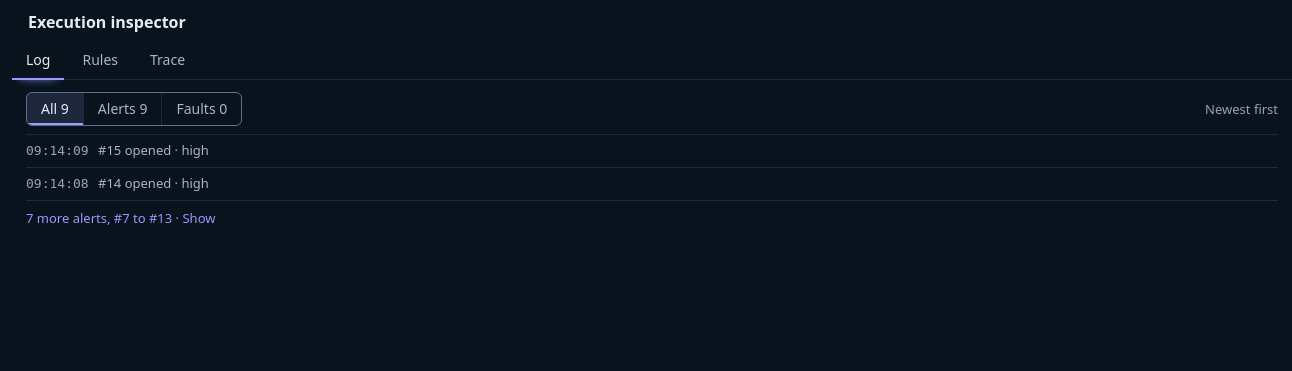
Scenario: Inspector: the log › folds a long run of alerts, and opens it
Expected: the number of list items is 3, left=26, top=134, right=1278, bottom=167; left=26, top=167, right=1278, bottom=200; left=26, top=200, right=1278, bottom=235
Click the button "7 more alerts, #7 to #13 · Show". click: (121, 218)
box: left=26, top=209, right=216, bottom=227
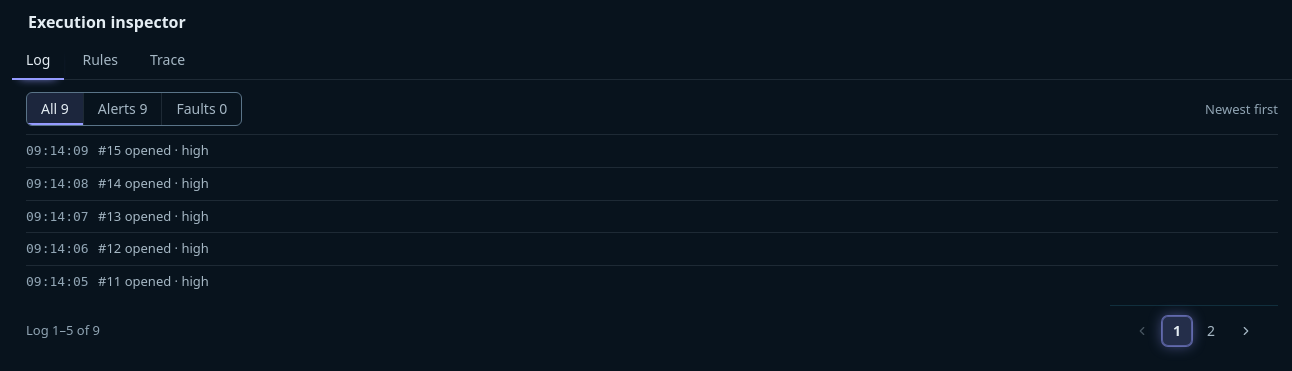
Expected: the button "more alerts" is gone
